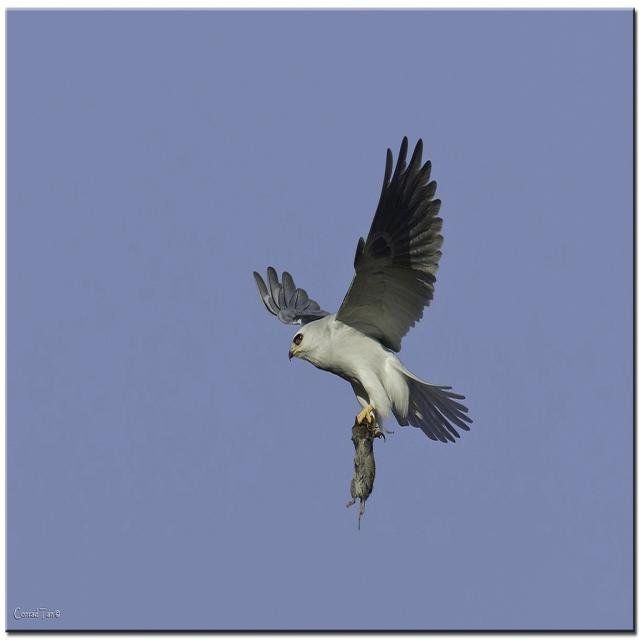bird: (249, 125, 474, 528)
